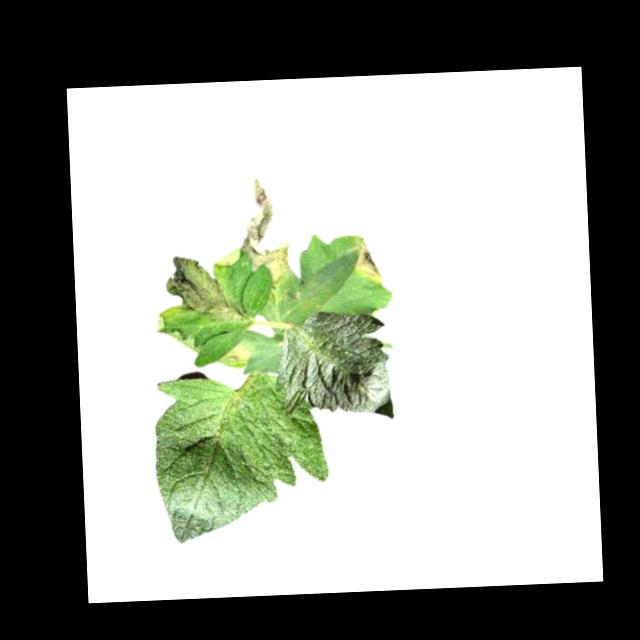Late_blight: (155, 253, 249, 328), (233, 172, 292, 289), (350, 233, 385, 284), (219, 341, 252, 364)
healthy: (150, 370, 332, 546), (273, 309, 395, 422)
